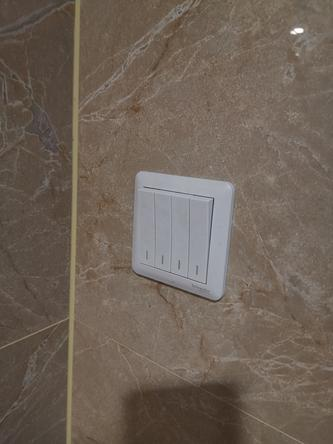switch: (187, 190, 216, 288), (148, 187, 175, 272), (133, 182, 158, 269), (169, 188, 192, 279)
